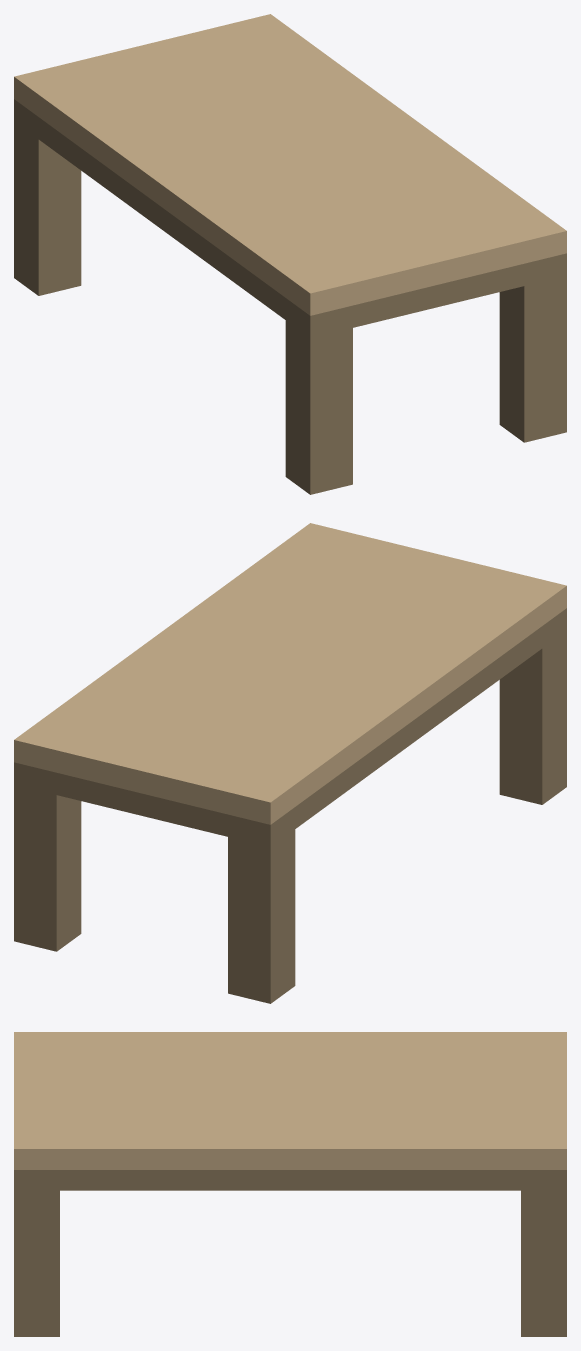
File: mesa_cocina_avellano_01.glb
The picture shows the model from 3 angles, top to bottom: view 1: azimuth 30°, elevation 25°; view 2: azimuth 150°, elevation 25°; view 3: azimuth 270°, elevation 25°; orthographic projection. The views are drawn at different scales.
Parts seen in each view (by area): view 1: mesa_cocina_avellano; view 2: mesa_cocina_avellano; view 3: mesa_cocina_avellano.
Boxes of the visible parts, x1,y1,x2,y2 form: mesa_cocina_avellano: [14, 14, 566, 494]; mesa_cocina_avellano: [14, 523, 566, 1003]; mesa_cocina_avellano: [14, 1032, 566, 1336].
Size of the model in its own units: 1 by 0.75 by 2.
